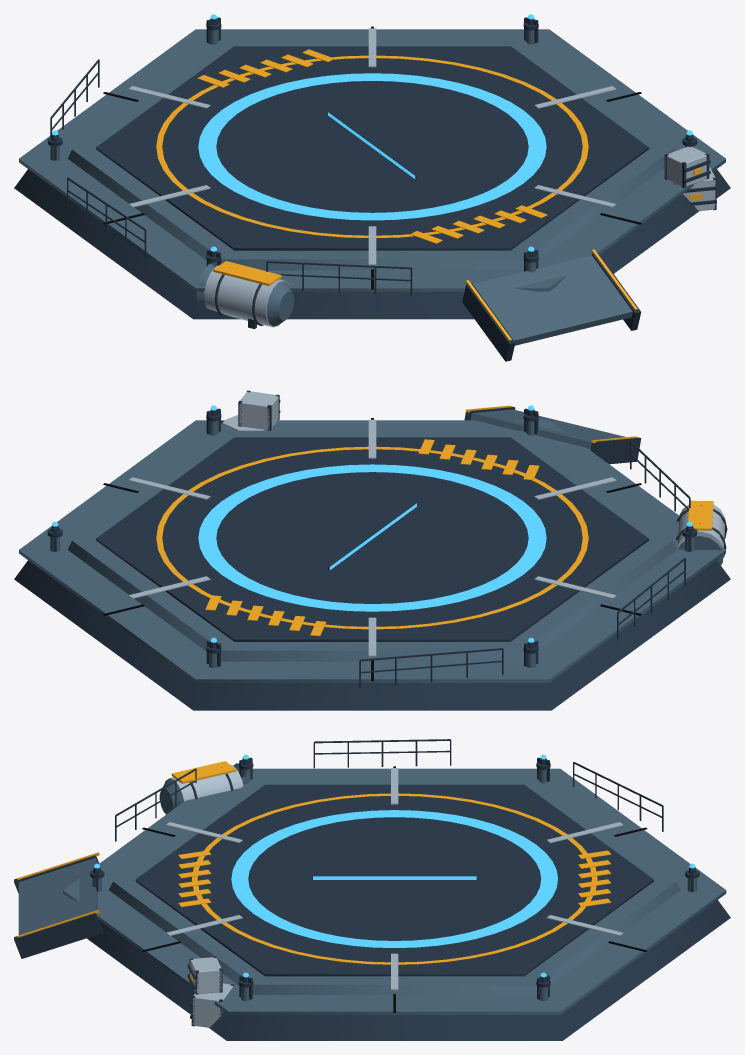
File: landing_pad.glb
3 views of the same model, one above another, from view 1: azimuth 30°, elevation 25°; view 2: azimuth 150°, elevation 25°; view 3: azimuth 270°, elevation 25° (orthographic). The views are drawn at different scales.
Parts seen in each view (by area): view 1: Deck, LandingPad, Ramp, Tank, Crate_2, Chevrons, Chevrons_2, Railing, Crate, Railing_2, Railing_3; view 2: Deck, LandingPad, Ramp, Tank, Crate_2, Chevrons_2, Chevrons, Railing_3, Railing_2, Railing, Strip; view 3: Deck, LandingPad, Ramp, Tank, Crate_2, Crate, Chevrons, Chevrons_2, Railing_2, Strip, Railing_3, Railing.
Boxes of the visible parts, <box> form: Deck: <box>67,28,673,270</box>; LandingPad: <box>14,26,730,319</box>; Ramp: <box>462,249,641,361</box>; Tank: <box>196,261,294,328</box>; Crate_2: <box>664,145,710,187</box>; Chevrons: <box>410,205,547,243</box>; Chevrons_2: <box>197,49,334,87</box>; Railing: <box>266,261,412,295</box>; Crate: <box>673,165,716,210</box>; Railing_2: <box>67,177,146,257</box>; Railing_3: <box>50,59,99,137</box>; Deck: <box>68,419,676,661</box>; LandingPad: <box>14,418,730,710</box>; Ramp: <box>464,405,641,464</box>; Tank: <box>676,500,727,565</box>; Crate_2: <box>238,390,280,430</box>; Chevrons_2: <box>205,595,326,636</box>; Chevrons: <box>418,439,539,480</box>; Railing_3: <box>359,648,503,687</box>; Railing_2: <box>617,557,685,640</box>; Railing: <box>630,441,690,511</box>; Strip: <box>328,502,416,570</box>; Deck: <box>109,768,680,994</box>; LandingPad: <box>63,766,730,1040</box>; Ramp: <box>14,852,102,958</box>; Tank: <box>159,761,249,814</box>; Crate_2: <box>187,956,222,994</box>; Crate: <box>190,983,234,1027</box>; Chevrons: <box>178,850,211,907</box>; Chevrons_2: <box>578,850,611,907</box>; Railing_2: <box>313,739,451,768</box>; Strip: <box>312,875,476,879</box>; Railing_3: <box>573,762,663,831</box>; Railing: <box>115,768,196,841</box>.
Bounding box in the file's own units: 9.85 × 1.2 × 11.97.
